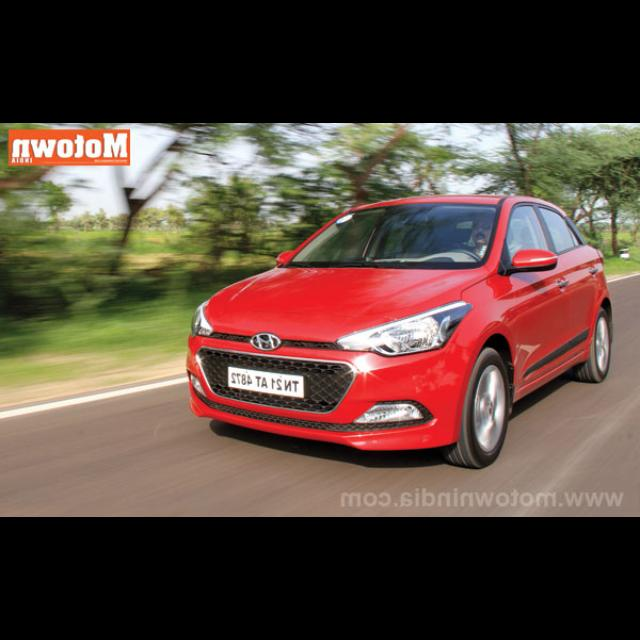number-plate: (229, 367, 306, 397)
vehicles: (188, 189, 617, 471)
